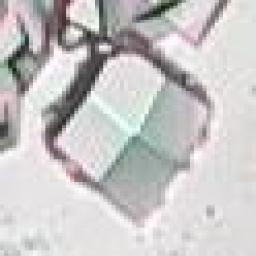crystals: (41, 36, 221, 232)
